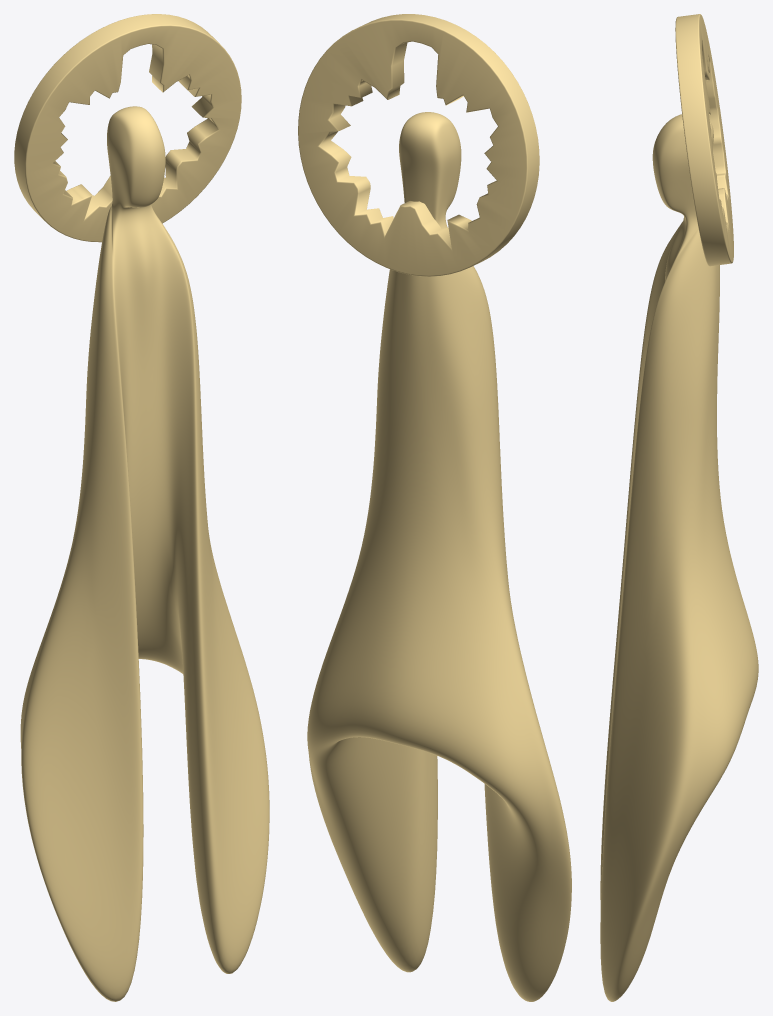
File: silence.glb
3 views of the same model, side by side, from view 1: azimuth 30°, elevation 25°; view 2: azimuth 150°, elevation 25°; view 3: azimuth 270°, elevation 25° (orthographic). The views are drawn at different scales.
Visible parts, largest first — view 1: Shape055, Plane004; view 2: Shape055, Plane004; view 3: Shape055, Plane004.
Part boxes in pixels (x1,y1,x2,y2): Shape055: [20, 106, 269, 1001]; Plane004: [14, 14, 241, 242]; Shape055: [307, 112, 571, 1001]; Plane004: [298, 14, 539, 276]; Shape055: [600, 114, 758, 1001]; Plane004: [675, 14, 733, 266].
Size of the model in its own units: 0.0108 by 0.0406 by 0.00614.
